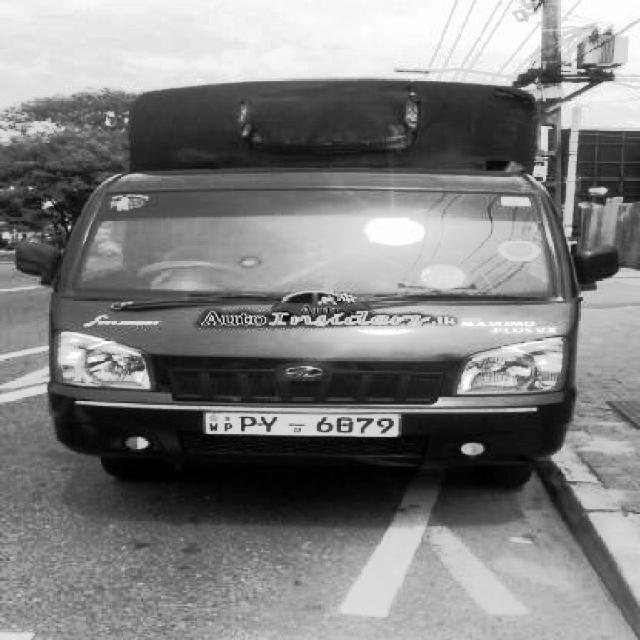LCV: (51, 121, 579, 512)
